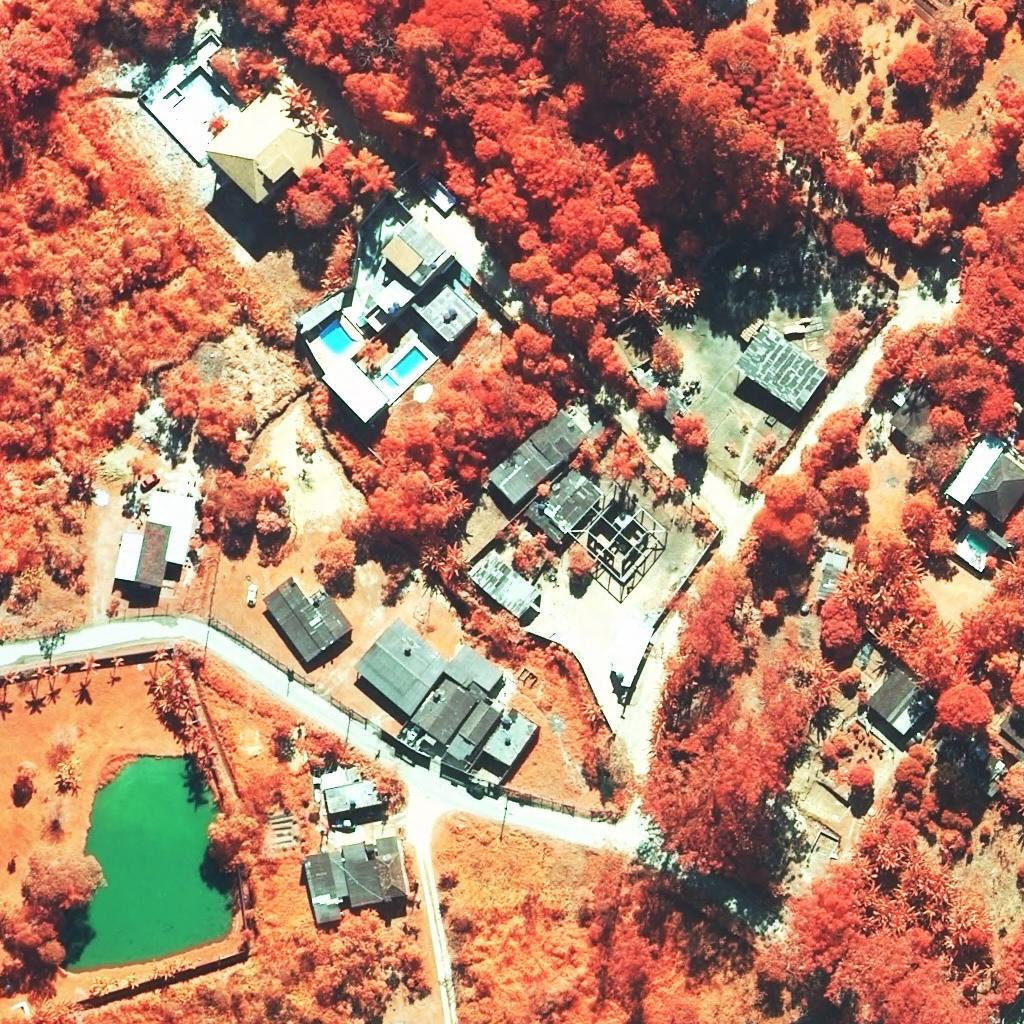pool: (320, 319, 356, 356), (391, 346, 428, 380), (967, 534, 988, 554), (381, 373, 399, 389)
